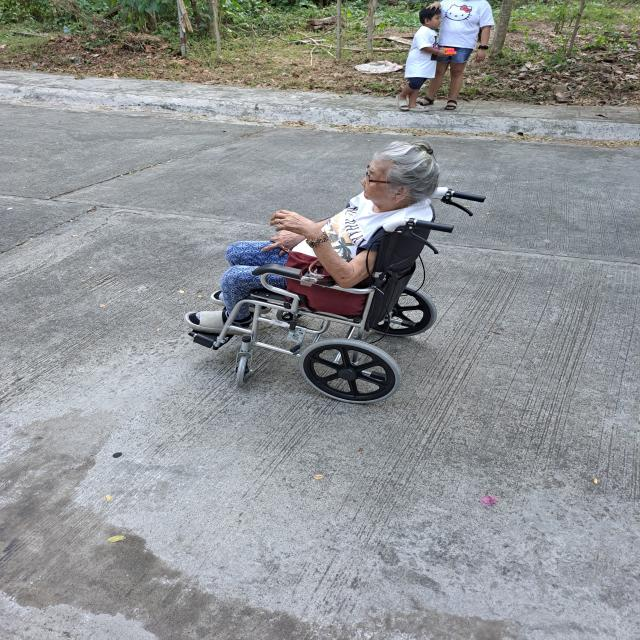wheelchairs: (187, 183, 490, 410)
